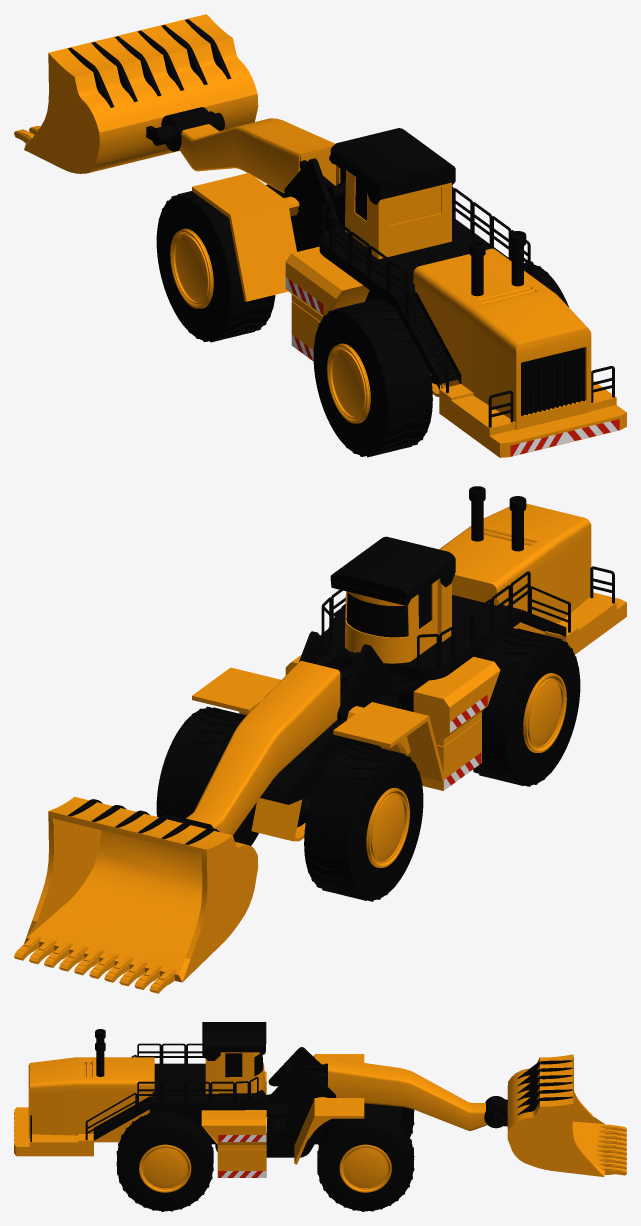
File: center-articulated.glb
The picture shows the model from 3 angles, top to bottom: view 1: azimuth 30°, elevation 25°; view 2: azimuth 150°, elevation 25°; view 3: azimuth 270°, elevation 25°; orthographic projection. The views are drawn at different scales.
Parts seen in each view (by area): view 1: back, front, back-cylinder, front-cylinder; view 2: front, back, front-cylinder, back-cylinder; view 3: back, front, front-cylinder, back-cylinder.
Part boxes in pixels (x1,y1,x2,y2): back: (285, 128, 626, 457); front: (14, 14, 345, 301); back-cylinder: (313, 262, 568, 457); front-cylinder: (156, 169, 341, 342); front: (14, 631, 444, 993); back: (285, 486, 626, 790); front-cylinder: (156, 706, 423, 901); back-cylinder: (328, 603, 580, 786); back: (14, 1022, 266, 1177); front: (249, 1047, 626, 1176); front-cylinder: (317, 1107, 414, 1211); back-cylinder: (116, 1110, 213, 1211).
Bounding box in the file's own units: 0.6404 × 0.7215 × 2.67.
